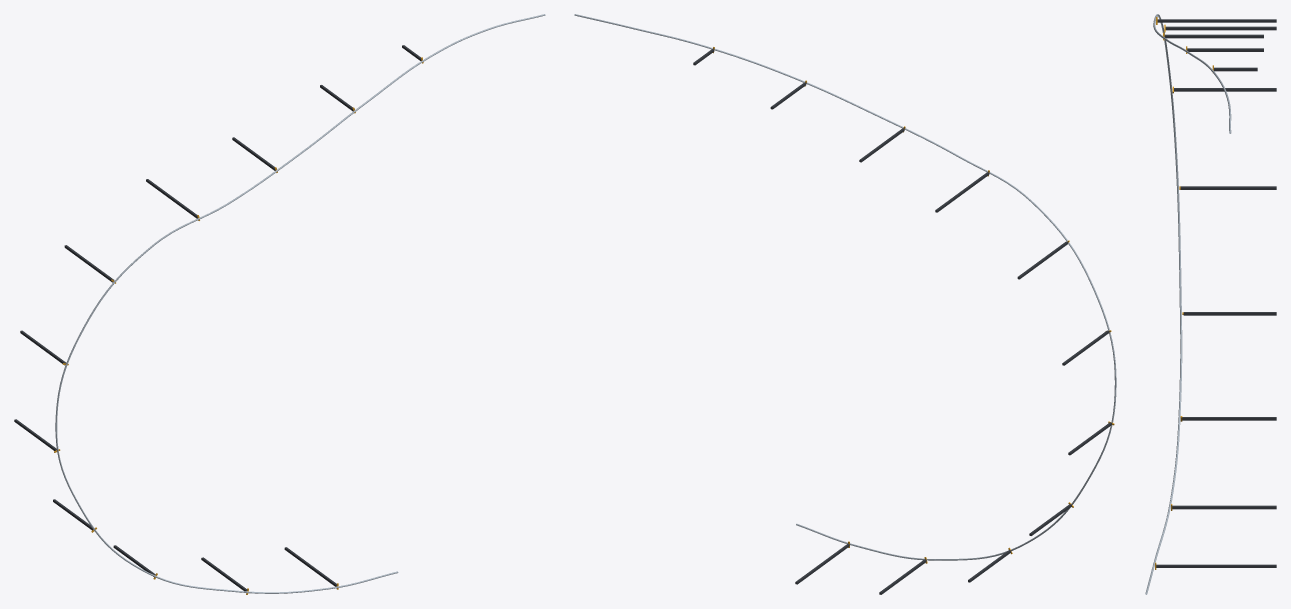
Rendered from rail_escape.obj.
The picture shows the model from 3 angles, left to right: view 1: azimuth 30°, elevation 25°; view 2: azimuth 150°, elevation 25°; view 3: azimuth 270°, elevation 25°; orthographic projection. The views are drawn at different scales.
Visible parts, largest first — view 1: rail_escape; view 2: rail_escape; view 3: rail_escape.
Part boxes in pixels (x1,y1,x2,y2): rail_escape: [14, 14, 545, 594]; rail_escape: [574, 14, 1116, 594]; rail_escape: [1145, 14, 1276, 594].
Size of the model in its own units: 81.12 by 74.68 by 15.5.
